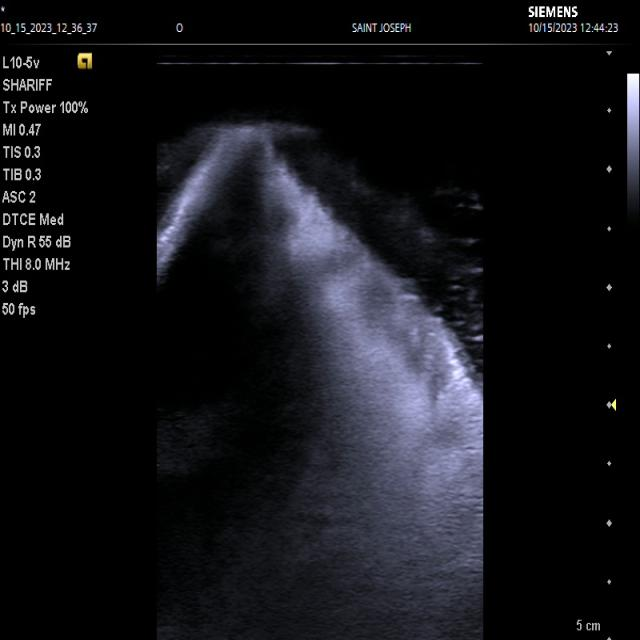tissue: (158, 130, 483, 640)
